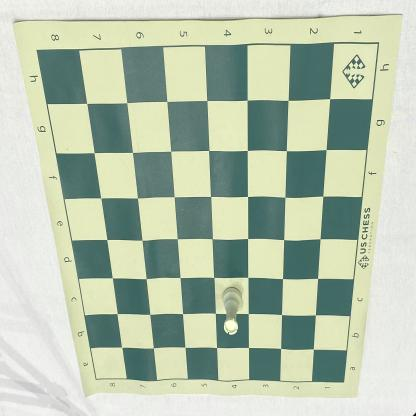white-rook: (221, 286, 243, 335)
